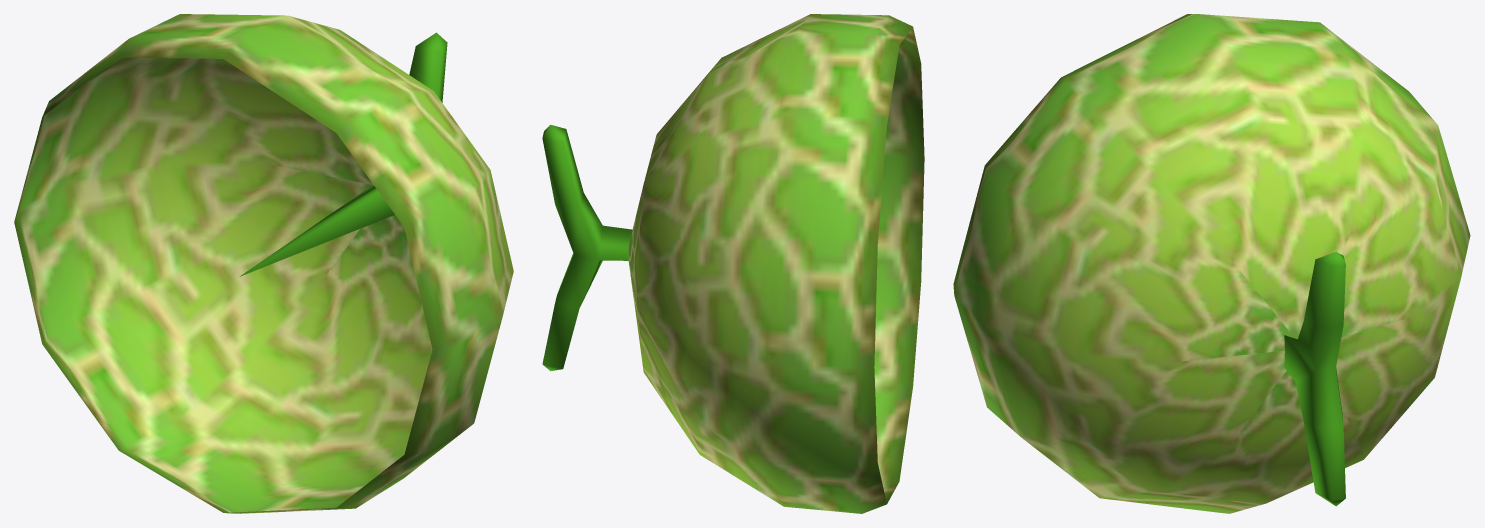
Rendered from cap_fruit_melon.dae.
The picture shows the model from 3 angles, left to right: view 1: azimuth 30°, elevation 25°; view 2: azimuth 150°, elevation 25°; view 3: azimuth 270°, elevation 25°; orthographic projection. The views are drawn at different scales.
Visible parts, largest first — view 1: cap_fruit_melon; view 2: cap_fruit_melon; view 3: cap_fruit_melon.
Part boxes in pixels (x1,y1,x2,y2): cap_fruit_melon: (14, 14, 513, 513); cap_fruit_melon: (542, 14, 924, 513); cap_fruit_melon: (953, 14, 1470, 513).
Bounding box in the file's own units: 18.93 × 22.06 × 21.95.
1 material, 1 textured.
